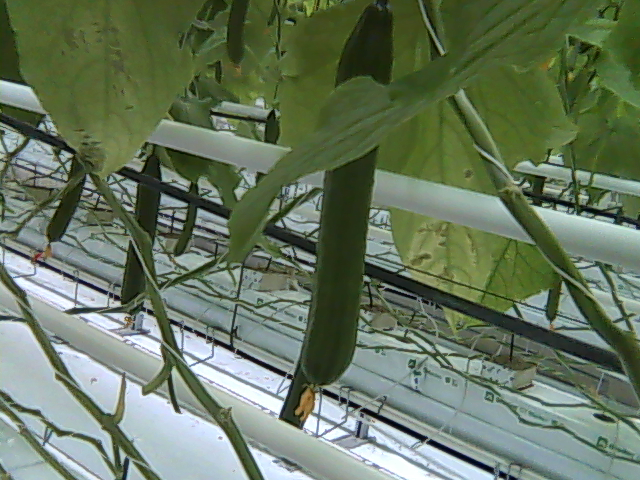concombre: (295, 1, 397, 418)
